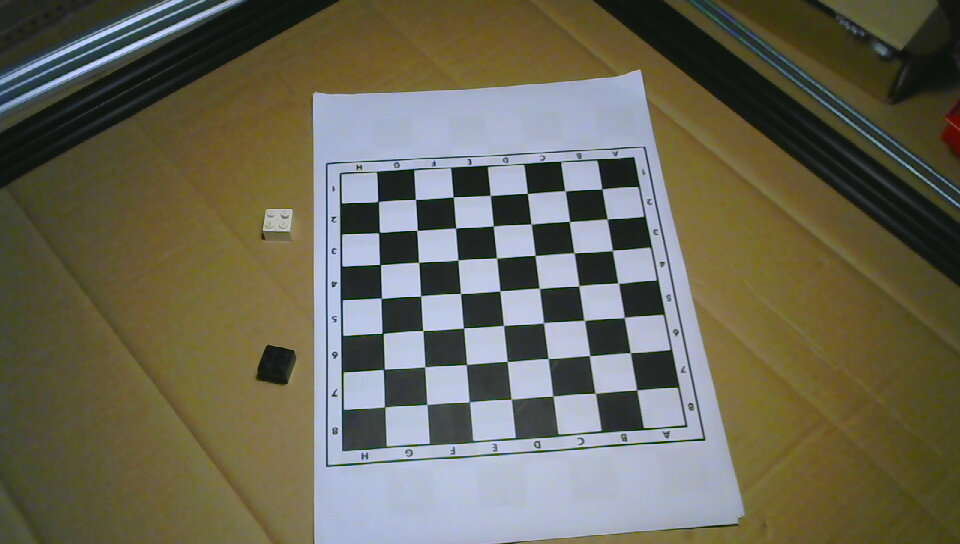bp: (258, 344, 295, 385)
wp: (262, 206, 294, 241)
